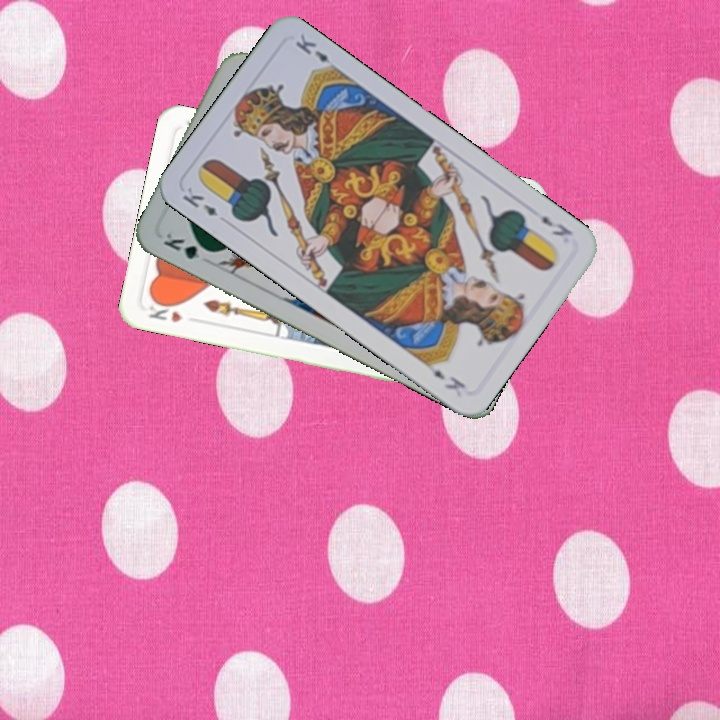EK: (178, 183, 220, 219), (537, 211, 576, 239)
GK: (160, 229, 216, 262)
HK: (144, 295, 185, 326)
